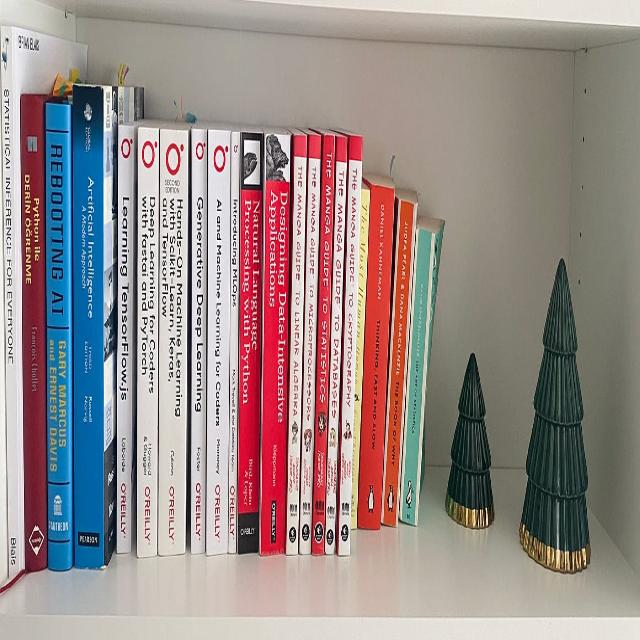book: (70, 80, 113, 566), (46, 88, 74, 577), (19, 83, 46, 570), (399, 218, 437, 523), (162, 123, 185, 556), (137, 127, 157, 553), (261, 132, 278, 559), (210, 132, 227, 549)
